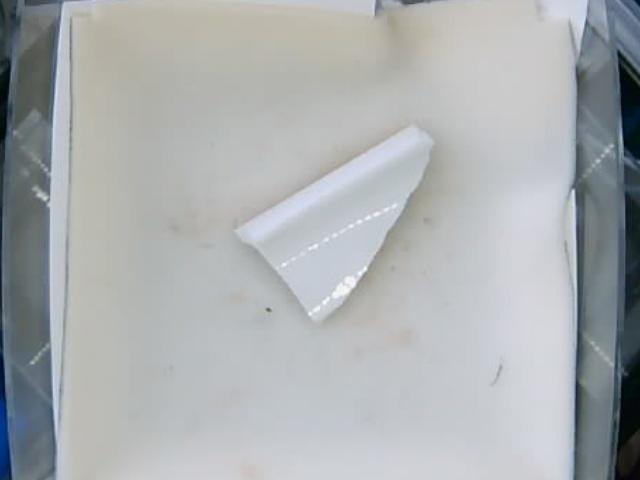China: (239, 125, 436, 322)
